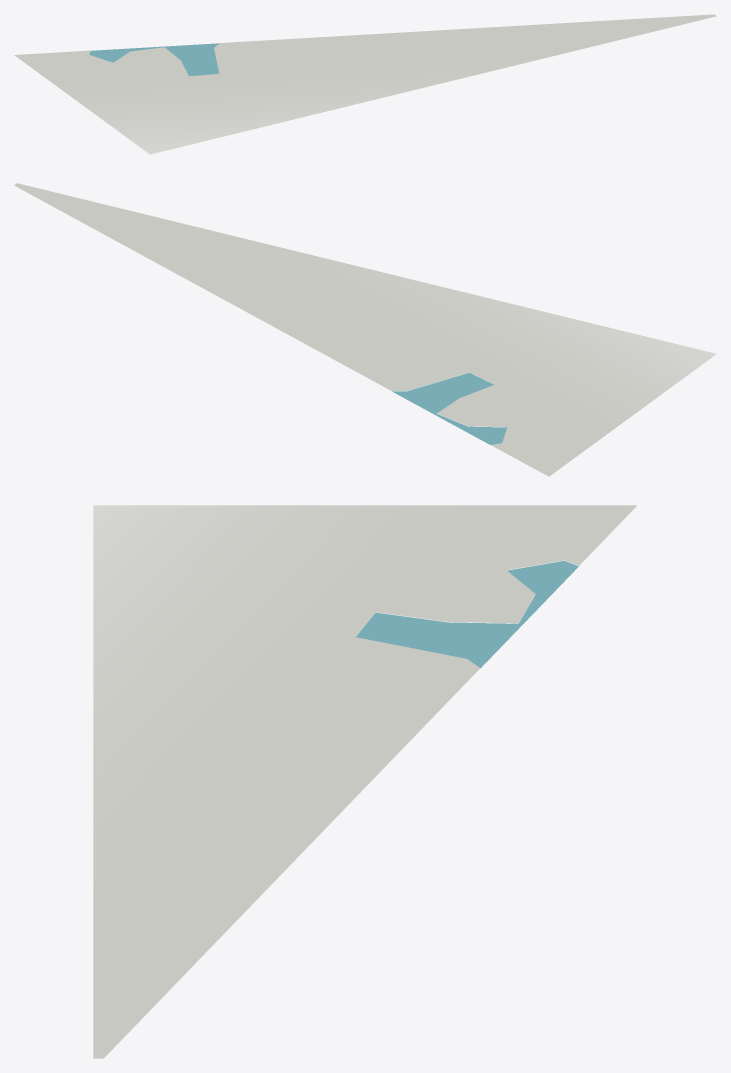
The picture shows the model from 3 angles, top to bottom: view 1: azimuth 30°, elevation 25°; view 2: azimuth 150°, elevation 25°; view 3: azimuth 270°, elevation 25°; orthographic projection. The views are drawn at different scales.
Visible parts, largest first — view 1: city; view 2: city; view 3: city.
Part boxes in pixels (x1,y1,x2,y2): city: (14,14,716,154); city: (14,183,716,476); city: (93,505,636,1058).
Bounding box in the file's own units: 500 × 0.18 × 208.
